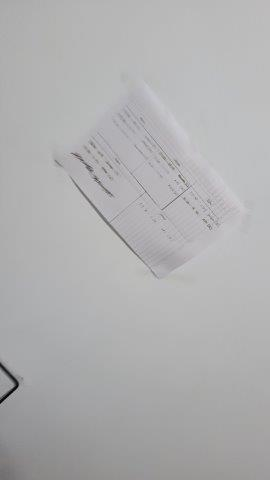kertas: (56, 82, 251, 292)
